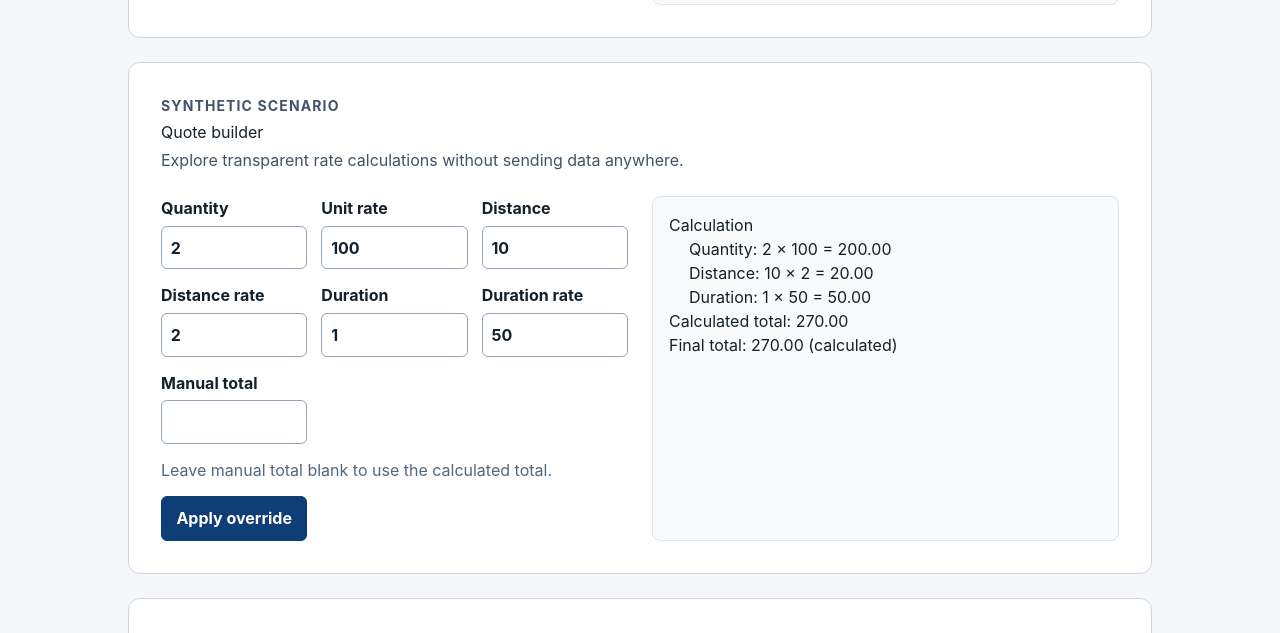
Test: operations workbench interactions › identifies an invalid quantity without marking manual total and clears the error after recovery
This screenshot has width=1280, height=633.
(page scrolled)
Replace the text in the number field labelled "Quantity" with "-1" at (234, 248), box [161,226,307,269]
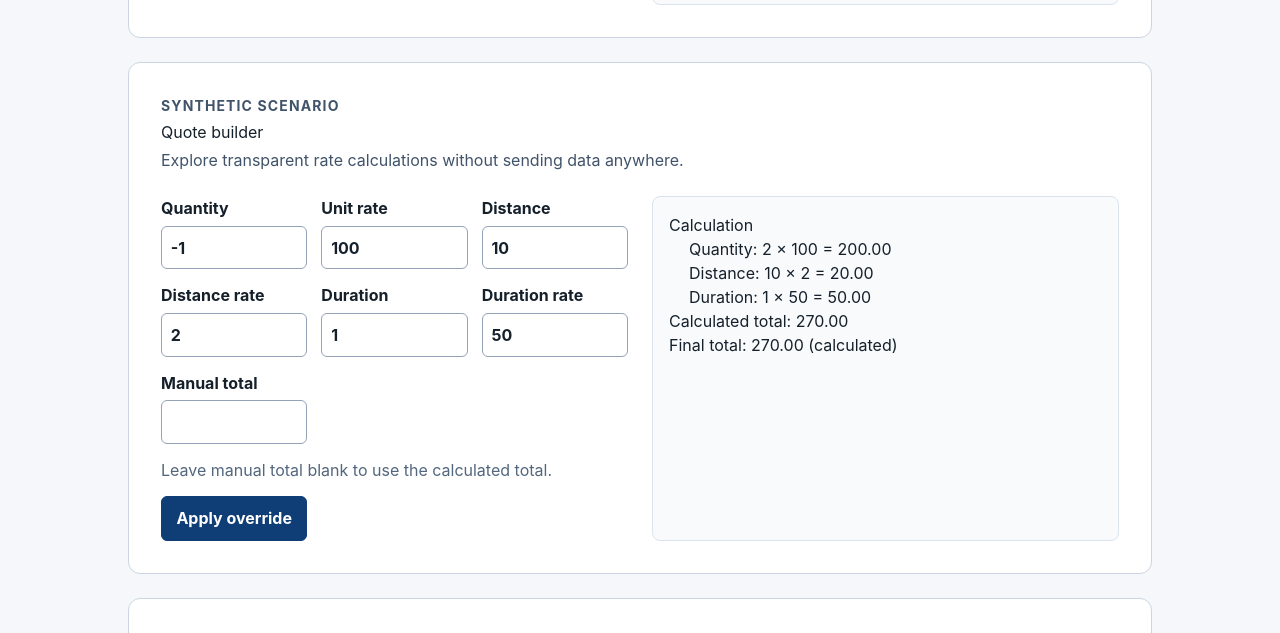
Click the button "Apply override".
click(234, 518)  # box [161,496,307,541]
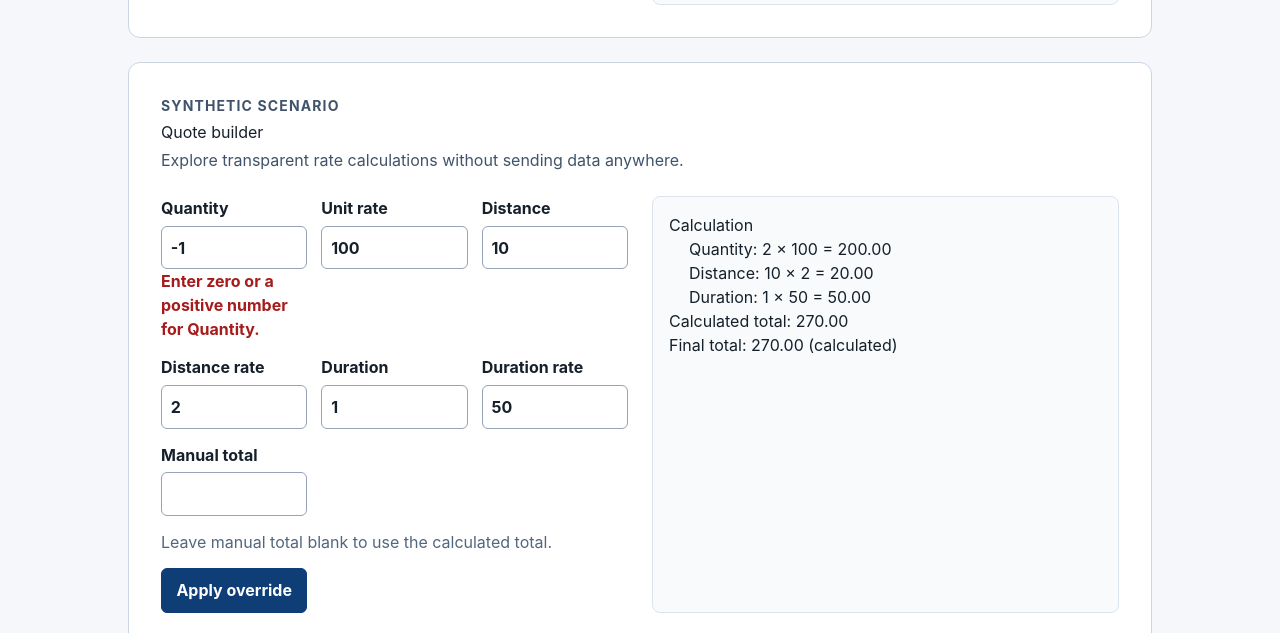
Replace the text in the number field labelled "Quantity" with "2" at (234, 248), box [161,226,307,269]
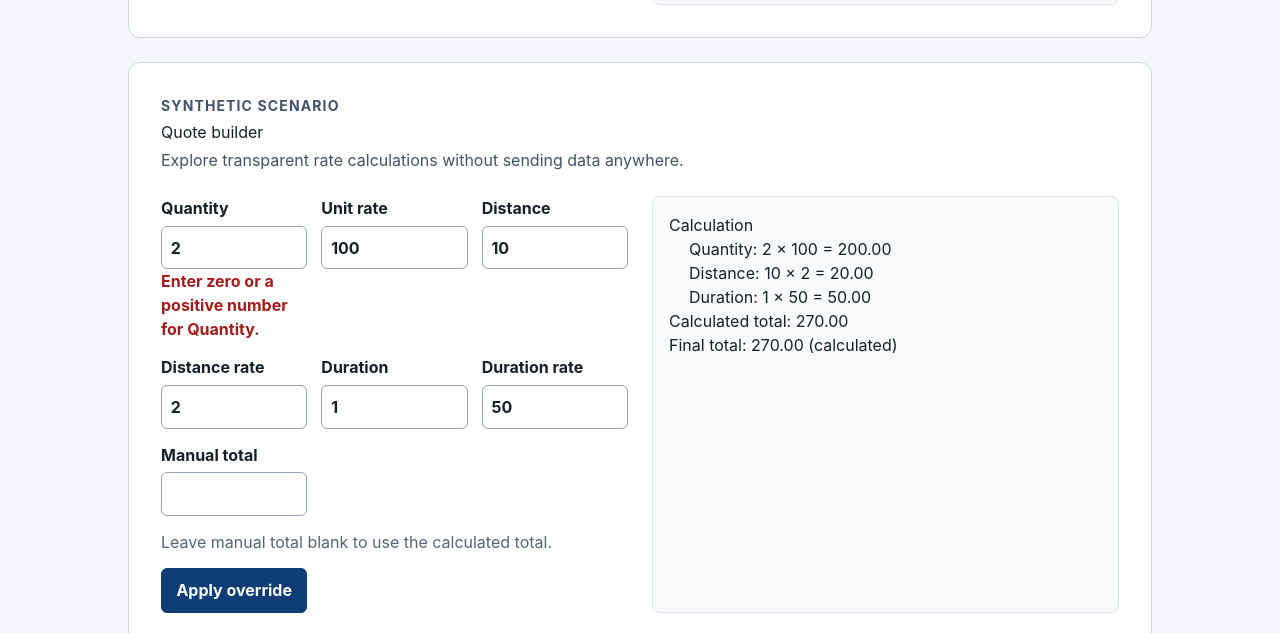
Click the button "Apply override".
click(234, 590)  # box [161,568,307,613]
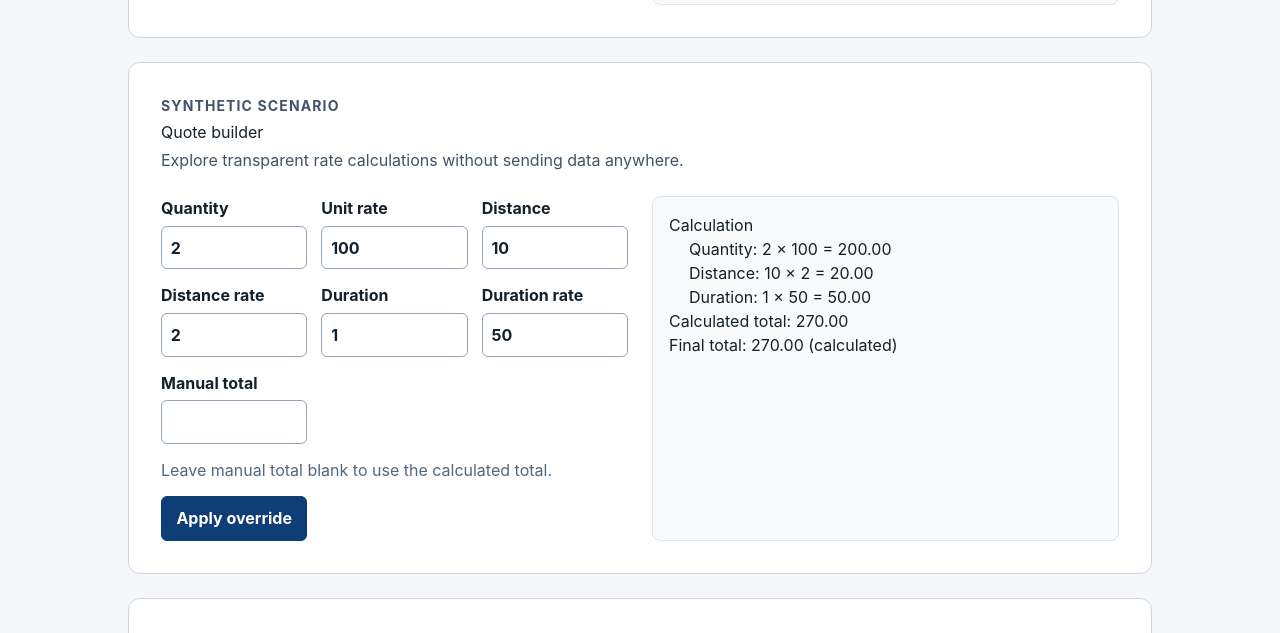
Now the message "Enter zero or a positive number for Quantity." is gone
